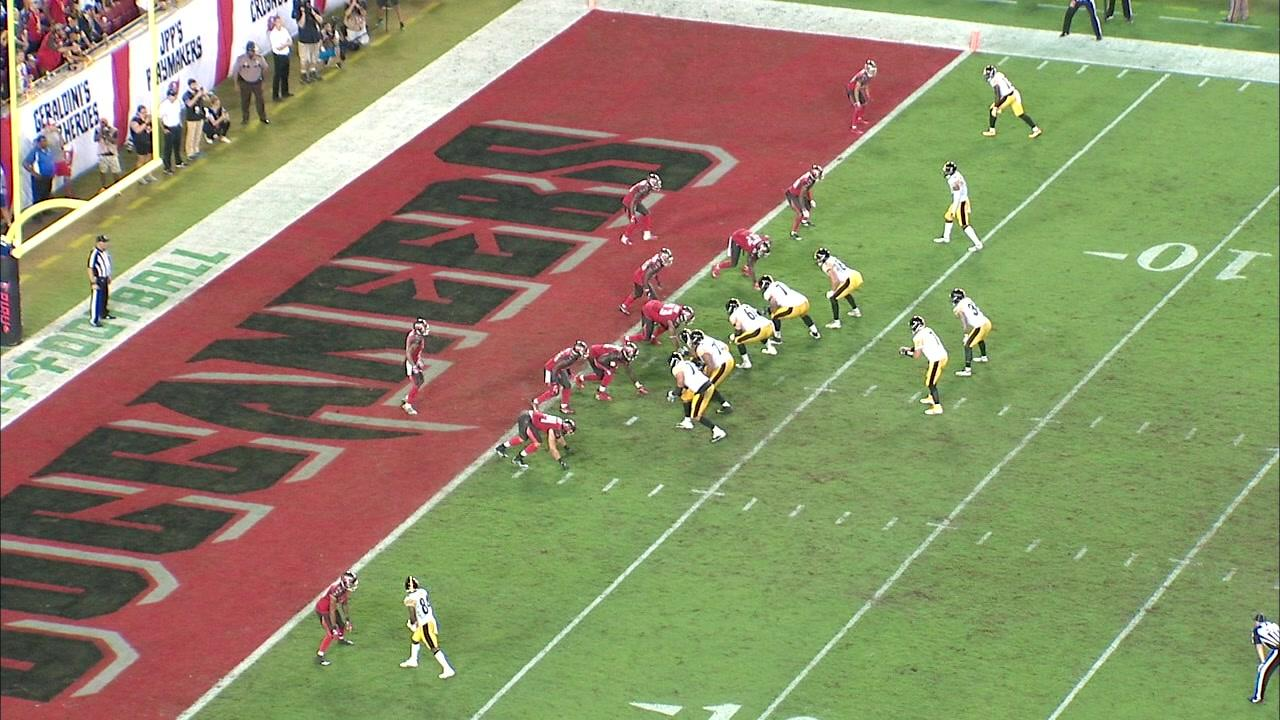defense: (494, 410, 582, 470), (314, 569, 361, 667), (532, 339, 587, 412), (579, 341, 647, 398), (709, 224, 772, 285), (618, 245, 674, 312), (615, 172, 664, 247), (398, 314, 433, 417), (625, 298, 696, 343), (788, 165, 826, 242), (846, 58, 882, 136)
oline: (666, 357, 727, 441), (756, 275, 826, 342), (724, 296, 779, 372), (691, 329, 730, 411), (679, 328, 730, 358)
qb: (900, 314, 948, 420)
ref: (1245, 596, 1280, 708), (85, 233, 120, 332)
skill: (401, 573, 456, 681), (931, 158, 983, 256), (980, 63, 1044, 140), (946, 284, 989, 380), (816, 245, 864, 330)
